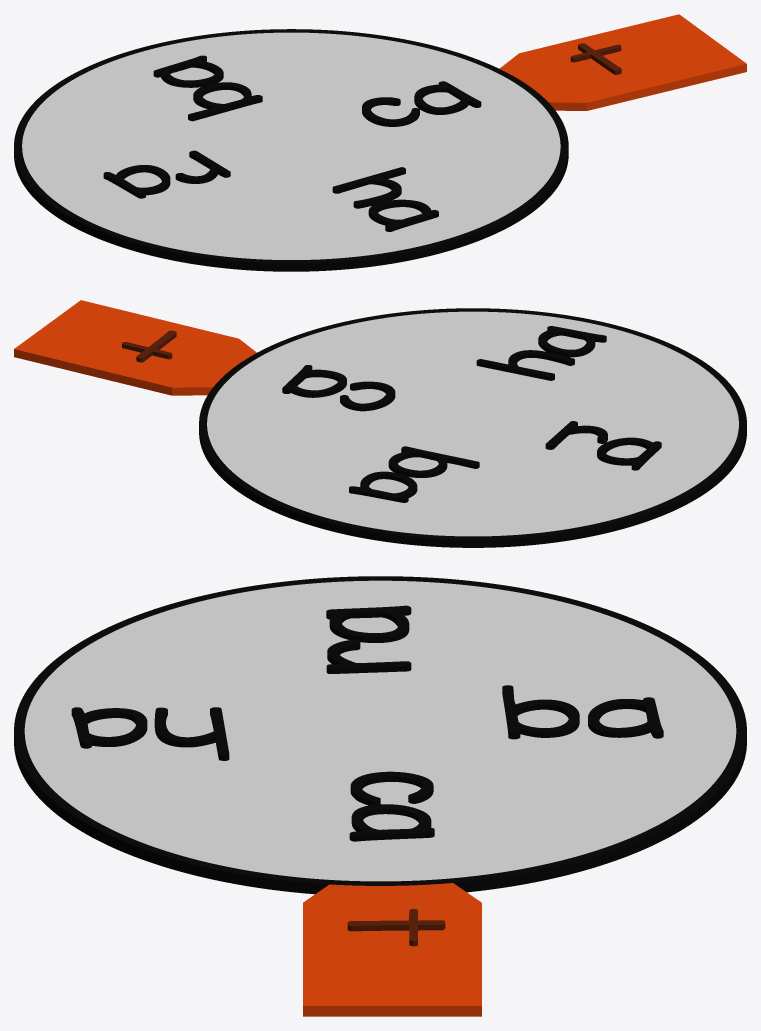
Rendered from wheel.fbx.
The picture shows the model from 3 angles, top to bottom: view 1: azimuth 30°, elevation 25°; view 2: azimuth 150°, elevation 25°; view 3: azimuth 270°, elevation 25°; orthographic projection. The views are drawn at different scales.
Visible parts, largest first — view 1: Cylinder, Cube, Outline, Bat, Hat, Cat, Rat, t; view 2: Cylinder, Cube, Outline, Bat, Hat, Cat, Rat, t; view 3: Cylinder, Cube, Outline, Bat, Cat, Hat, Rat, t.
Boxes of the visible parts, x1,y1,x2,y2 form: Cylinder: (22,32,560,259); Cube: (499,14,746,110); Outline: (14,29,568,271); Bat: (153,55,262,121); Hat: (332,167,438,231); Cat: (362,81,481,126); Rat: (103,150,230,198); t: (570,43,621,74); Cylinder: (207,311,738,536); Cube: (14,300,256,395); Outline: (199,308,746,547); Bat: (349,446,479,502); Hat: (476,326,606,380); Cat: (282,365,395,411); Rat: (545,421,661,470); t: (122,330,176,362); Cylinder: (24,580,736,881); Cube: (303,883,481,1016); Outline: (14,576,746,894); Bat: (502,685,663,739); Cat: (349,771,434,841); Hat: (71,707,229,760); Rat: (326,605,411,673); t: (347,908,445,946).
Bounding box in the file's own units: 852 × 20 × 614.
